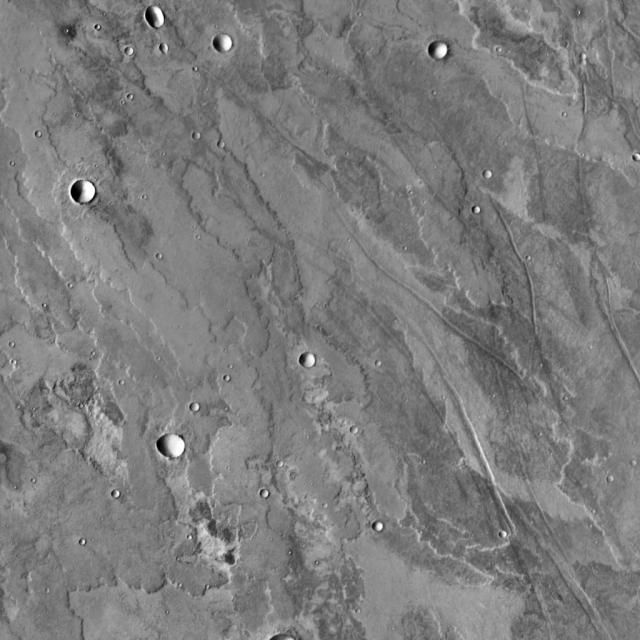crater: (162, 434, 190, 460), (76, 183, 101, 206), (150, 8, 171, 28), (433, 42, 453, 62), (219, 36, 238, 54), (306, 352, 324, 369), (129, 48, 140, 58), (195, 404, 206, 414), (380, 524, 390, 534), (265, 489, 275, 499), (116, 492, 125, 501), (164, 46, 174, 54), (489, 172, 498, 180), (215, 136, 223, 144), (478, 208, 486, 216), (612, 478, 620, 486), (356, 426, 364, 434), (505, 534, 512, 542), (221, 368, 228, 376), (192, 127, 199, 134), (374, 356, 382, 362), (274, 455, 281, 461)
